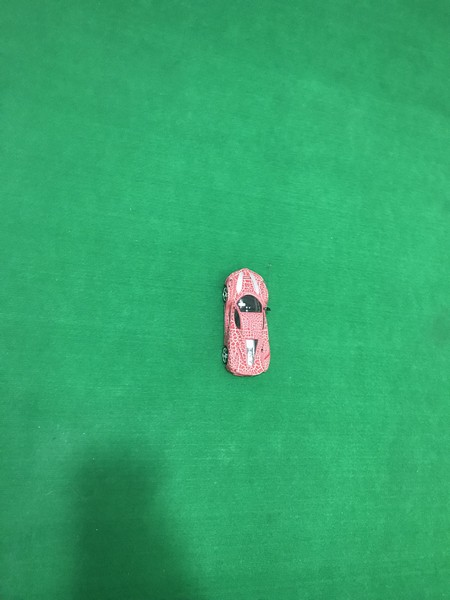RC: (218, 266, 276, 379)
